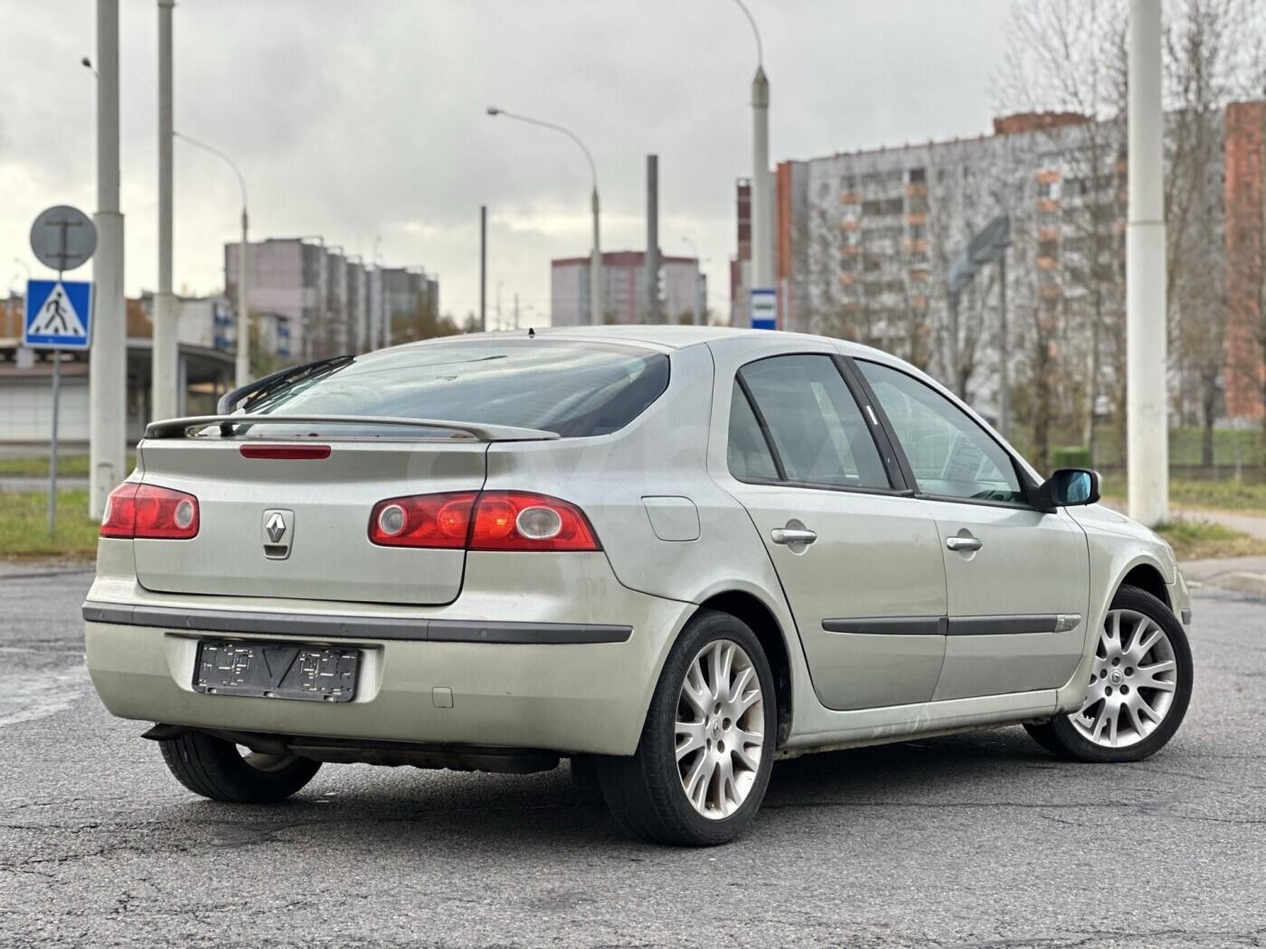Laguna_2005-2007: (84, 312, 1199, 839)
